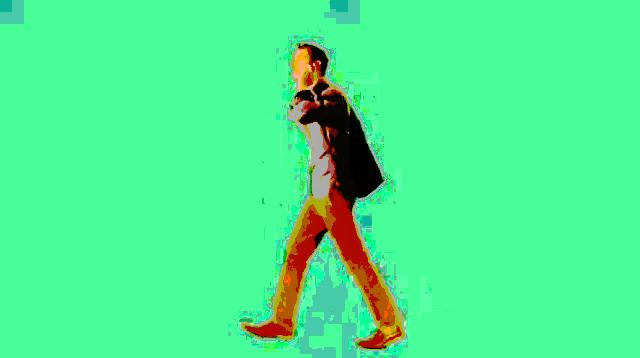berjalan: (239, 35, 407, 351)
